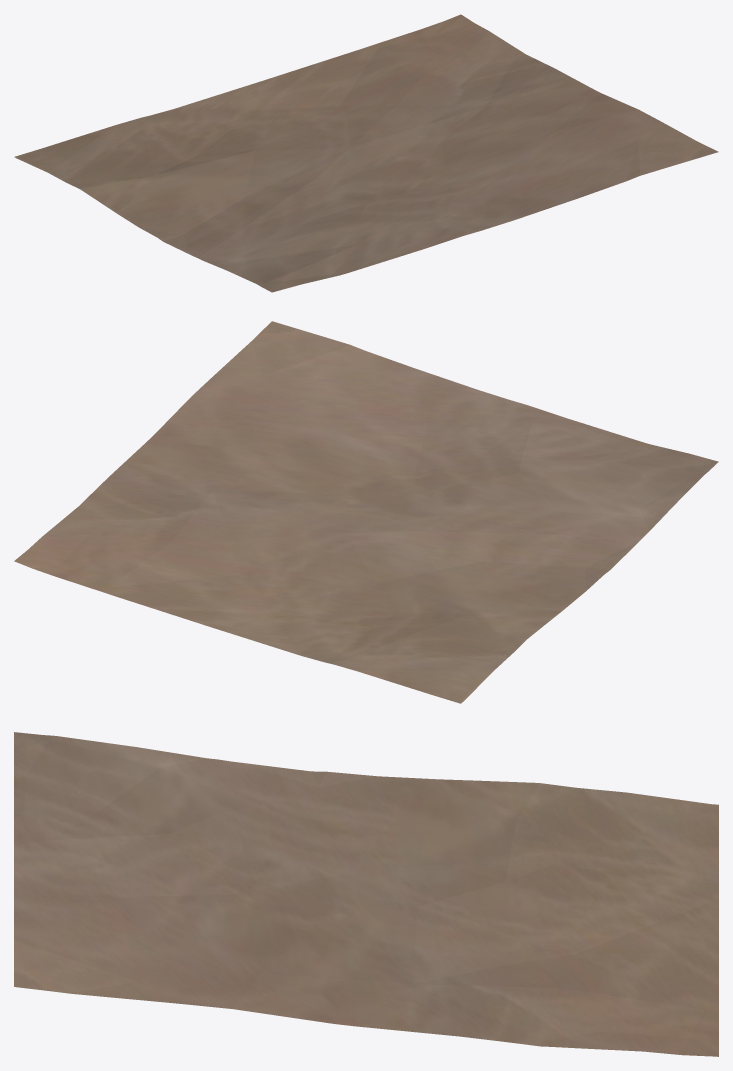
The picture shows the model from 3 angles, top to bottom: view 1: azimuth 30°, elevation 25°; view 2: azimuth 150°, elevation 25°; view 3: azimuth 270°, elevation 25°; orthographic projection. The views are drawn at different scales.
Bounding box in the file's own units: 2.09 × 0.3784 × 2.09.
Materials: 3 (3 with a texture image).
